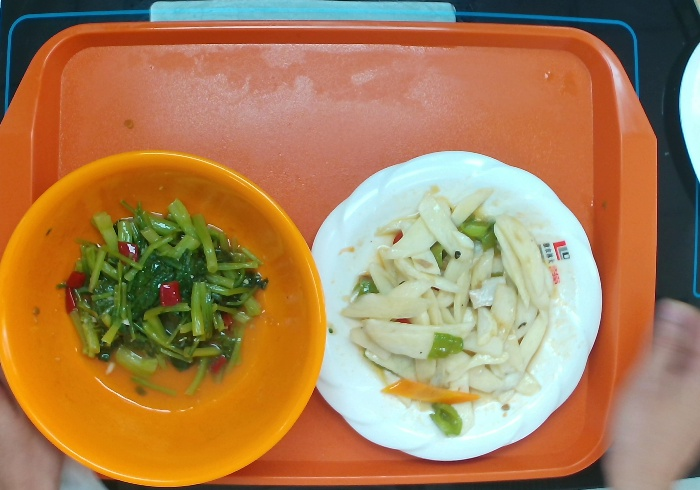ZNLD-Hua_Bian_Wan: (301, 139, 629, 470)
ZNLD-Ju_Se_Tang_Wan: (1, 130, 331, 490)
